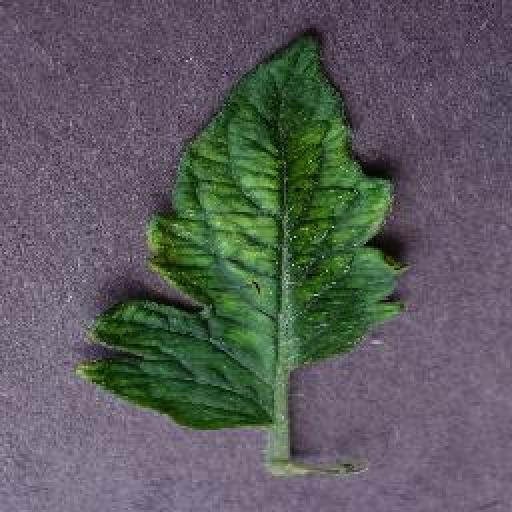disease_tomato: (67, 30, 413, 432)
